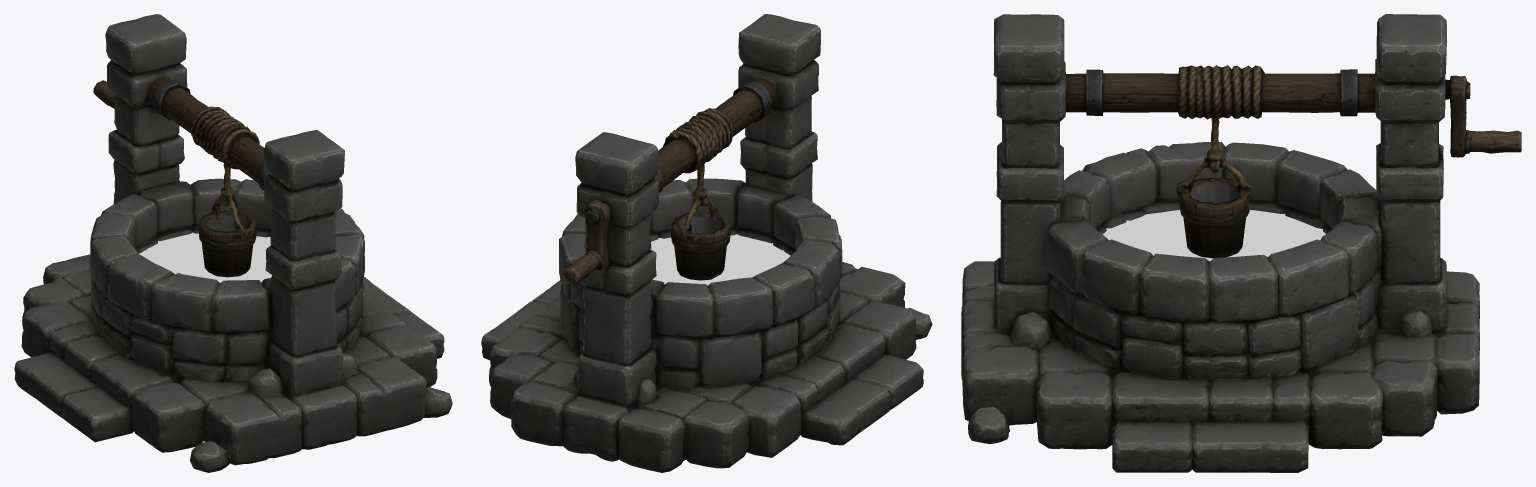
File: Well.fbx
The picture shows the model from 3 angles, left to right: view 1: azimuth 30°, elevation 25°; view 2: azimuth 150°, elevation 25°; view 3: azimuth 270°, elevation 25°; orthographic projection. The views are drawn at different scales.
Parts seen in each view (by area): view 1: Well; view 2: Well; view 3: Well.
Part boxes in pixels (bbox=[...]): Well: bbox=[14, 14, 452, 472]; Well: bbox=[481, 14, 932, 472]; Well: bbox=[961, 14, 1521, 472].
Size of the model in its own units: 258 by 198 by 293.
Materials: 2 (1 with a texture image).
